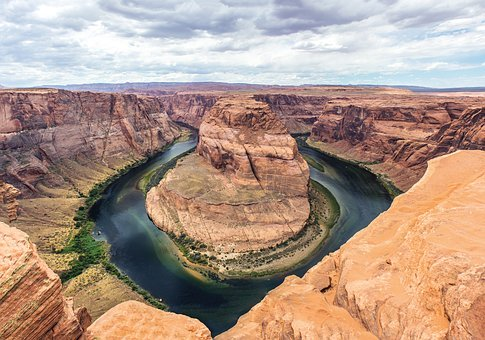mountain: (4, 87, 485, 337)
sky: (1, 1, 482, 90)
